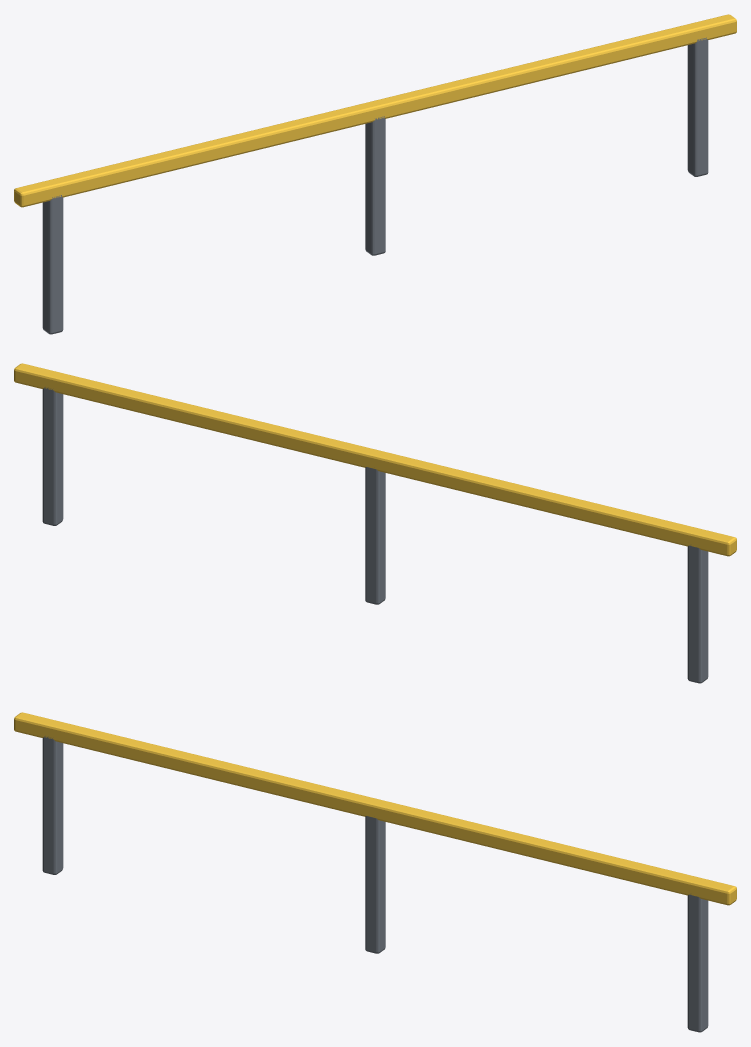
Rendered from Skate_Rail.fbx.
3 views of the same model, one above another, from view 1: azimuth 30°, elevation 25°; view 2: azimuth 150°, elevation 25°; view 3: azimuth 330°, elevation 25° (orthographic).
Visible parts, largest first — view 1: Rail; view 2: Rail; view 3: Rail.
Part boxes in pixels (x1,y1,x2,y2): Rail: (14, 14, 736, 334); Rail: (14, 363, 736, 683); Rail: (14, 712, 736, 1032).
Bounding box in the file's own units: 4 × 0.795 × 0.08.
